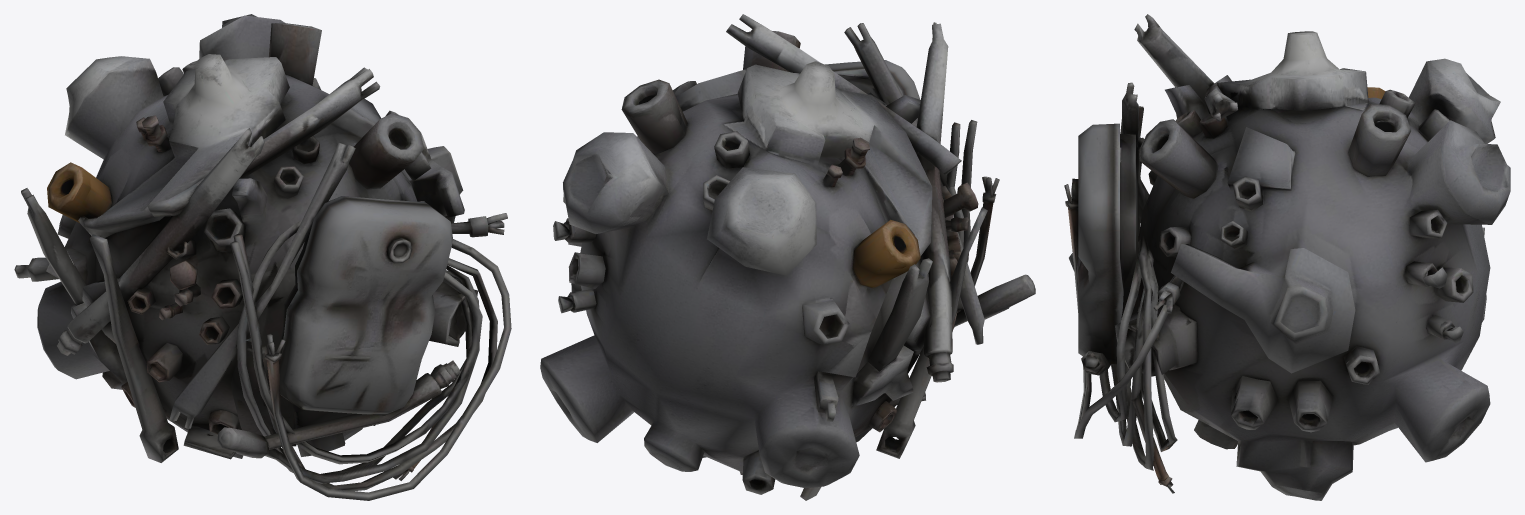
Rendered from original_glb.glb.
3 renders of one model, left to right at view 1: azimuth 30°, elevation 25°; view 2: azimuth 150°, elevation 25°; view 3: azimuth 270°, elevation 25°, orthographic. The views are drawn at different scales.
Parts seen in each view (by area): view 1: Debris Cluster; view 2: Debris Cluster; view 3: Debris Cluster.
Part boxes in pixels (left/top/right/bottom): Debris Cluster: left=14, top=14, right=511, bottom=500; Debris Cluster: left=540, top=14, right=1035, bottom=500; Debris Cluster: left=1064, top=14, right=1510, bottom=500.
Bounding box in the file's own units: 0.9824 × 0.998 × 0.9824.
Materials: 1 (1 with a texture image).
